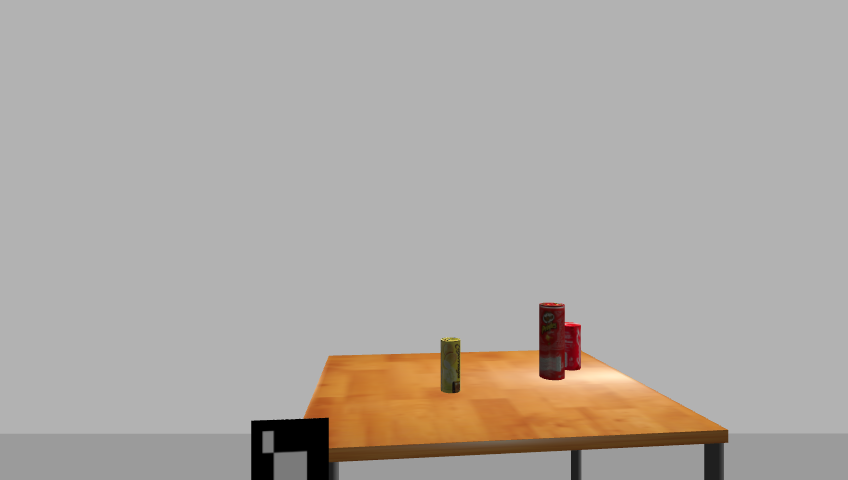aruco marker: (245, 417, 335, 480)
biscuits pack: (440, 337, 462, 395)
coke can: (560, 323, 583, 372)
dinner table: (293, 346, 736, 479)
pringles can: (536, 302, 566, 382)
